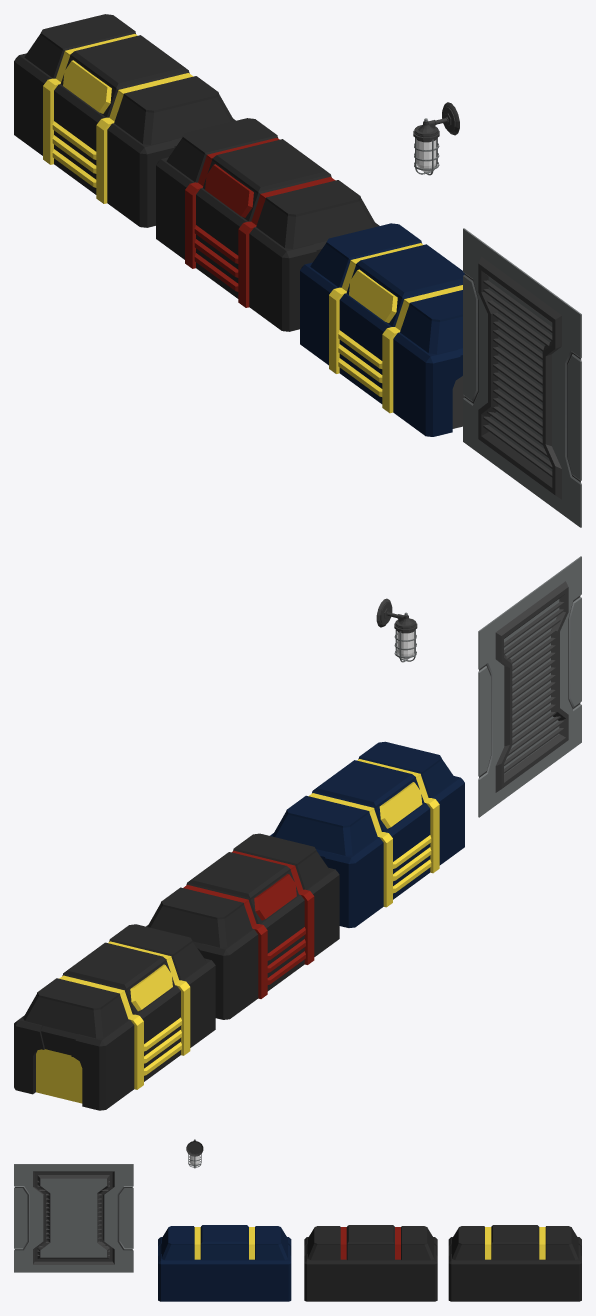
3 renders of one model, top to bottom at view 1: azimuth 30°, elevation 25°; view 2: azimuth 150°, elevation 25°; view 3: azimuth 270°, elevation 25°, orthographic. The views are drawn at different scales.
Parts seen in each view (by area): view 1: Crate2, Crate3, Crate, Vent, Light_Fixture; view 2: Crate3, Crate, Crate2, Vent, Light_Fixture; view 3: Vent, Crate2, Crate3, Crate, Light_Fixture.
Boxes of the visible parts, box(x1,y1,x2,y2) form: Crate2: box(156, 118, 379, 331); Crate3: box(14, 14, 235, 227); Crate: box(300, 223, 464, 436); Vent: box(463, 228, 581, 527); Light_Fixture: box(413, 102, 459, 175); Crate3: box(14, 924, 215, 1110); Crate: box(270, 741, 464, 927); Crate2: box(146, 833, 339, 1019); Vent: box(478, 556, 581, 817); Light_Fixture: box(376, 598, 417, 662); Vent: box(14, 1164, 133, 1272); Crate2: box(304, 1225, 437, 1301); Crate3: box(448, 1225, 581, 1301); Crate: box(158, 1225, 291, 1301); Light_Fixture: box(186, 1139, 203, 1168).
Size of the model in its own units: 0.7999 by 2.05 by 7.08.
